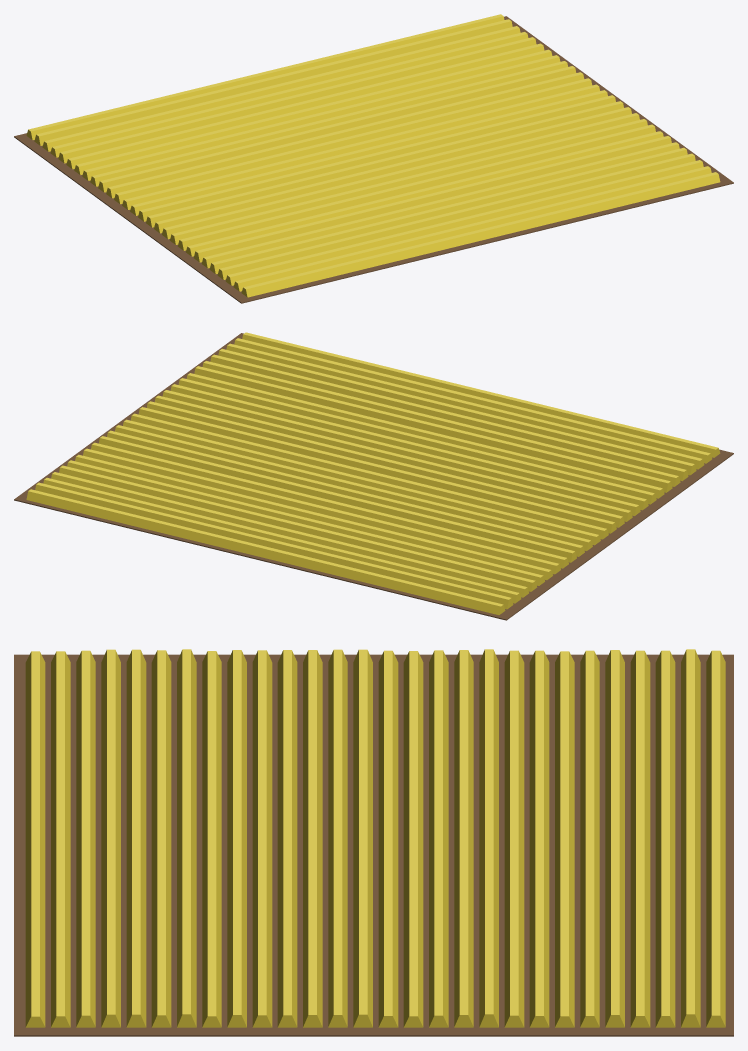
The model's file is Kir_alan_ekin_3.fbx.
The picture shows the model from 3 angles, top to bottom: view 1: azimuth 30°, elevation 25°; view 2: azimuth 150°, elevation 25°; view 3: azimuth 270°, elevation 25°; orthographic projection. The views are drawn at different scales.
Parts seen in each view (by area): view 1: Kir_alan_ekin_3; view 2: Kir_alan_ekin_3; view 3: Kir_alan_ekin_3.
Boxes of the visible parts, x1,y1,x2,y2 form: Kir_alan_ekin_3: (14, 14, 733, 303); Kir_alan_ekin_3: (14, 332, 733, 620); Kir_alan_ekin_3: (14, 649, 733, 1036).
Bounding box in the file's own units: 50 × 0.9083 × 40.
